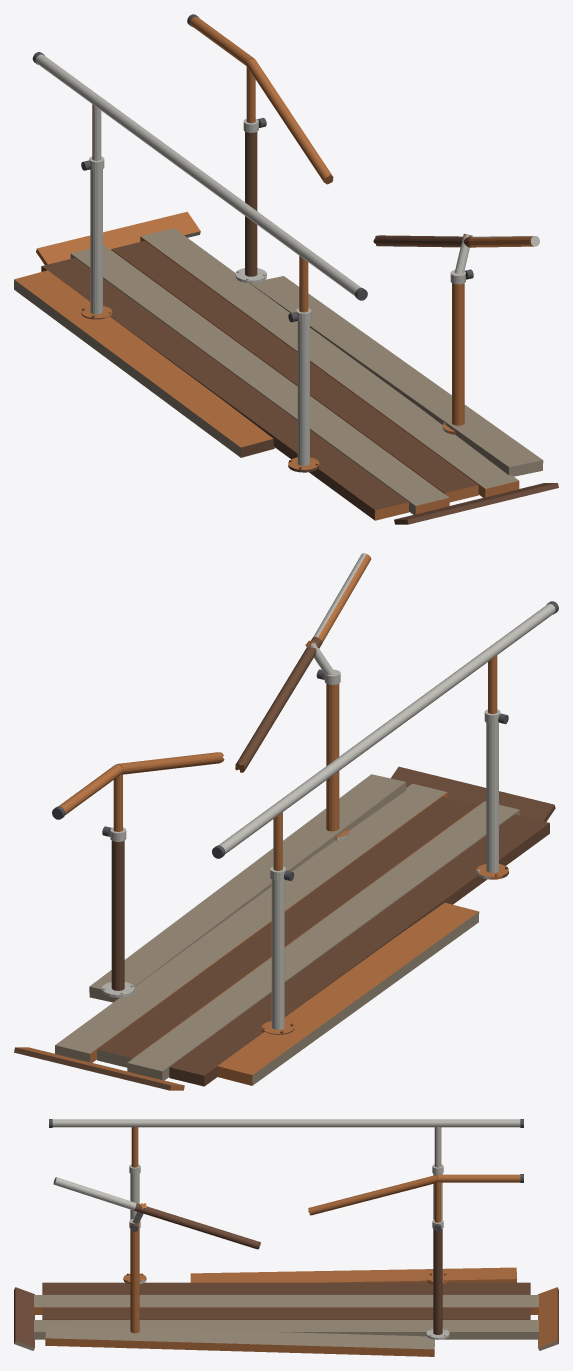
File: Rehabilitation_Room_bar2.fbx
3 views of the same model, one above another, from view 1: azimuth 30°, elevation 25°; view 2: azimuth 150°, elevation 25°; view 3: azimuth 270°, elevation 25° (orthographic). The views are drawn at different scales.
Visible parts, largest first — view 1: 02_ParallelBars_Damaged_Mesh; view 2: 02_ParallelBars_Damaged_Mesh; view 3: 02_ParallelBars_Damaged_Mesh.
Part boxes in pixels (left/top/right/bottom): 02_ParallelBars_Damaged_Mesh: left=14, top=14, right=558, bottom=524; 02_ParallelBars_Damaged_Mesh: left=14, top=553, right=558, bottom=1090; 02_ParallelBars_Damaged_Mesh: left=14, top=1119, right=558, bottom=1356.
Bounding box in the file's own units: 85.81 × 92.68 × 259.
